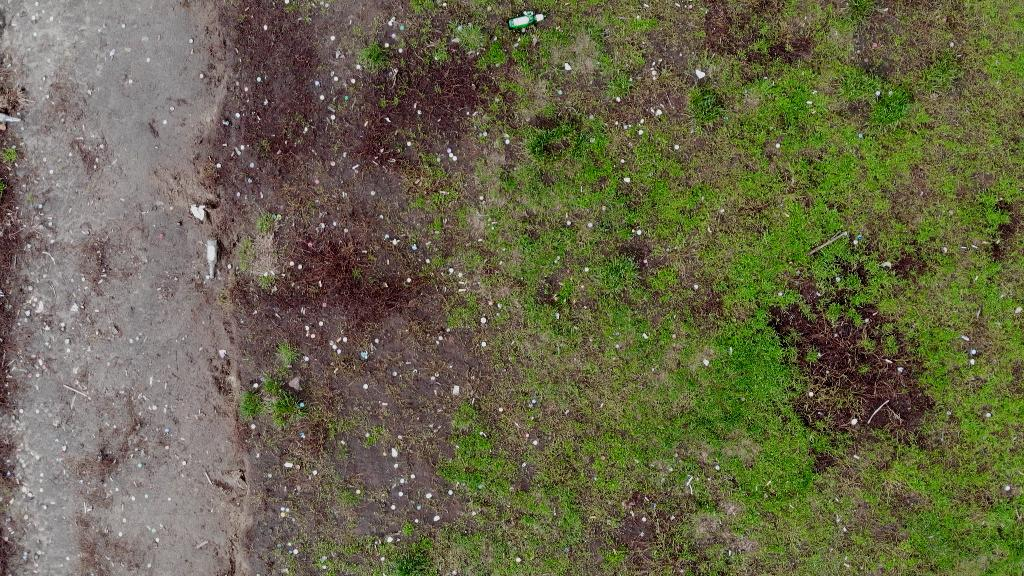garbage: (509, 11, 547, 32), (205, 238, 220, 283)
